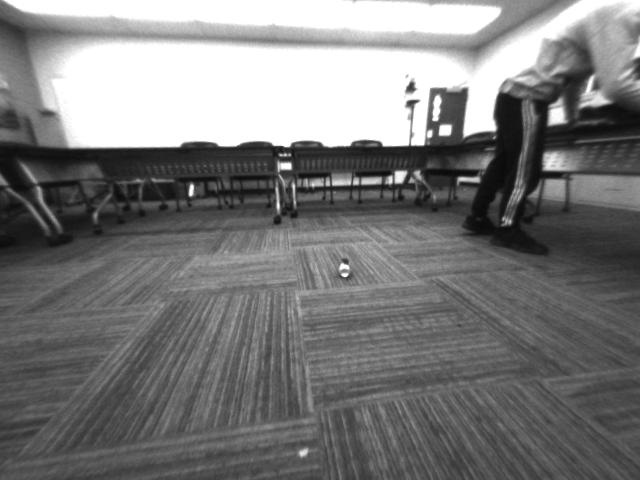can: (337, 254, 353, 283)
